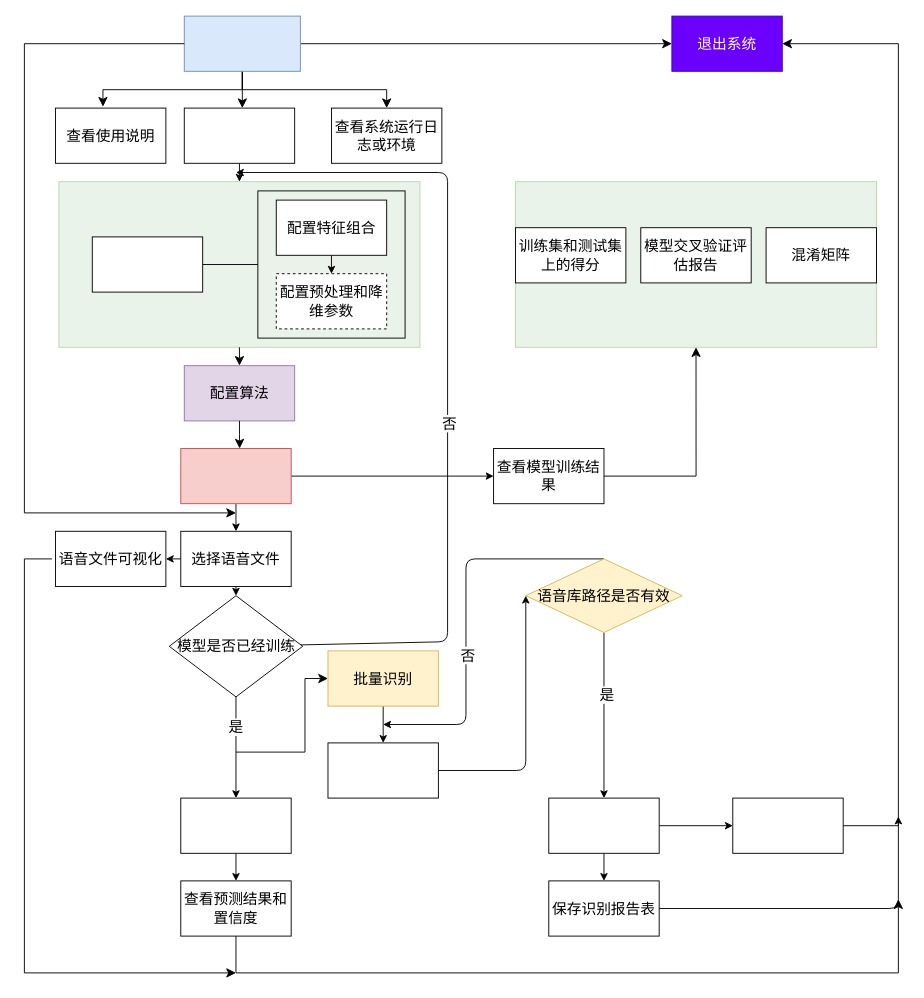
This 924x998 diagram has some shape labels left out. The shapes that lost their labels are listed below. From the top down, each one's centre as x and y in pixels, then its label:
point 241,43: 启动系统
point 239,135: 配置语料库组合
point 147,264: 配置情感组合
point 235,476: 训练模型
point 382,770: 选择语音库
point 235,825: 识别单个语音文件情感
point 603,825: 查看识别报告表
point 787,825: 绘制识别结果统计图
